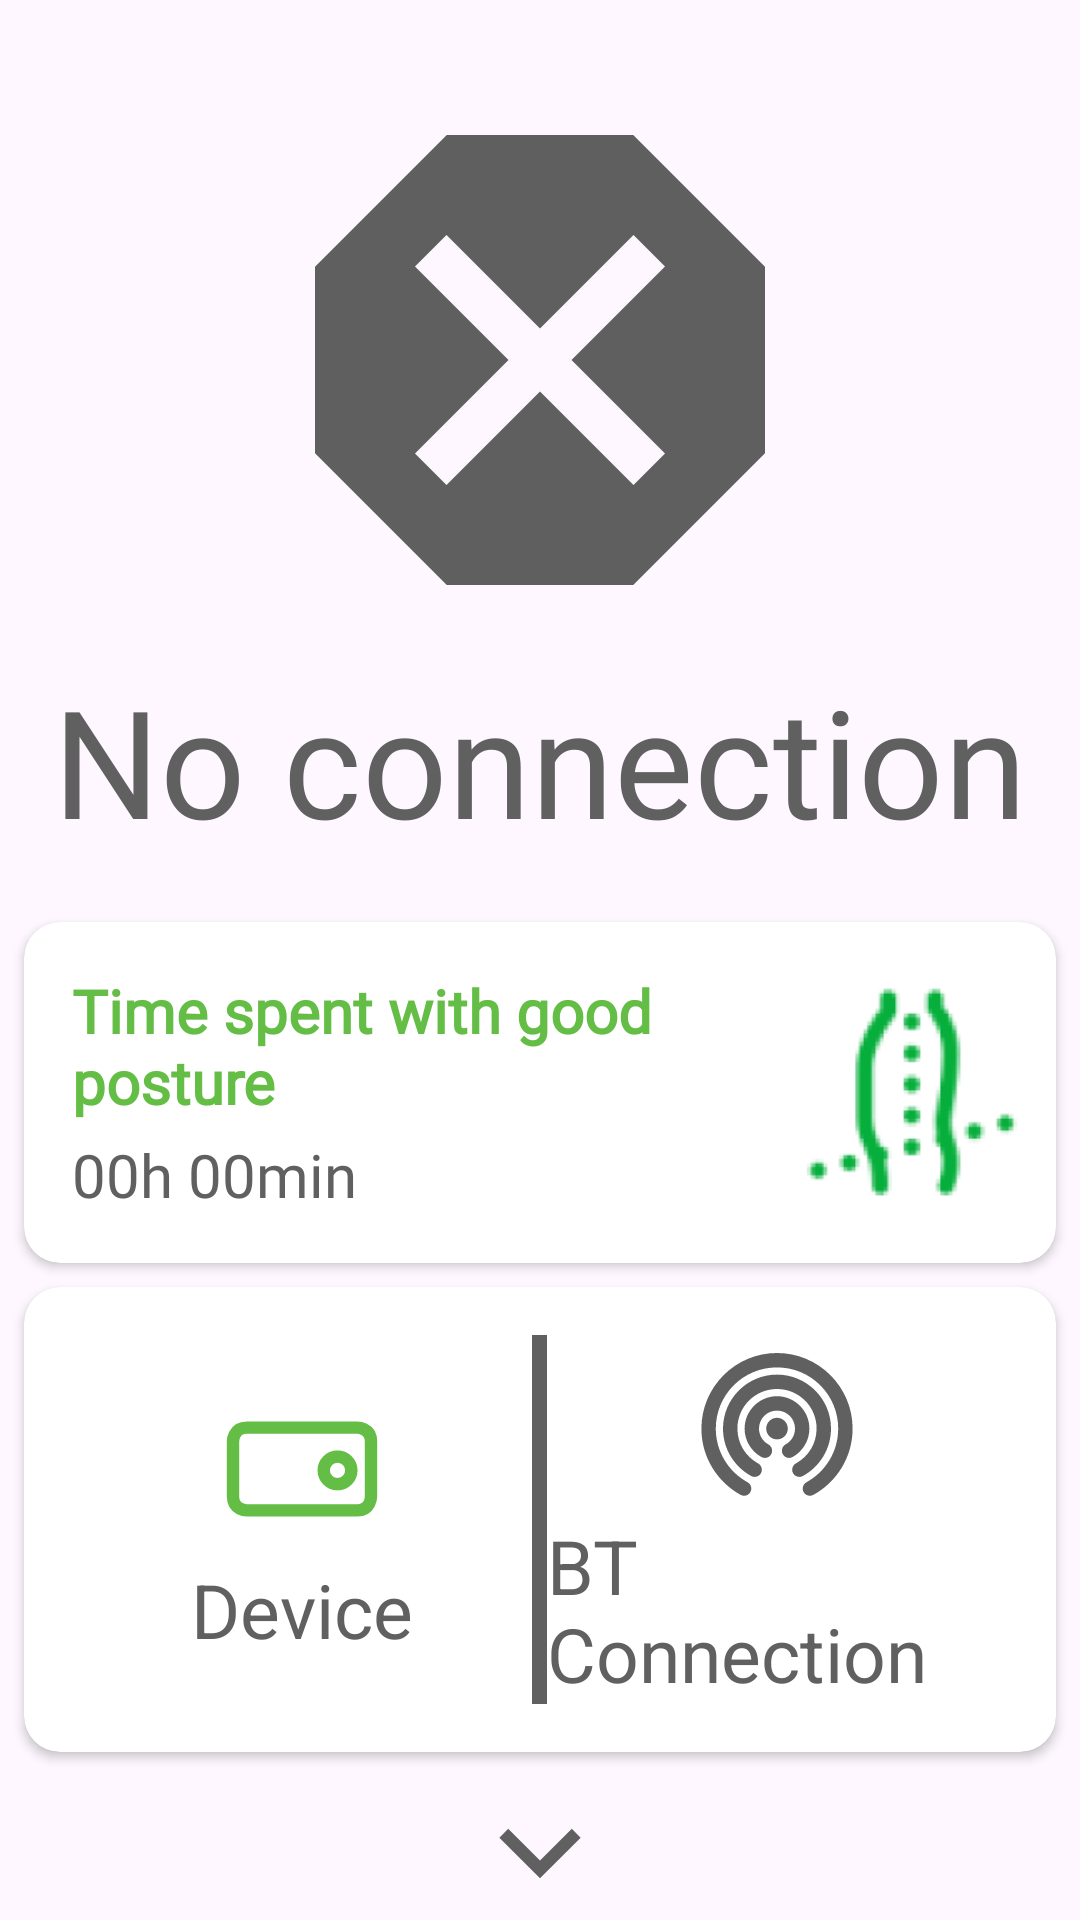

Icon bounding boxes for this 1080 × 1920 phone screenshot, format (left=x1, top=y1, right=x2, bottom=y2):
arrow down: (left=499, top=1829, right=581, bottom=1878)
reconnection: (left=701, top=1353, right=853, bottom=1496)
